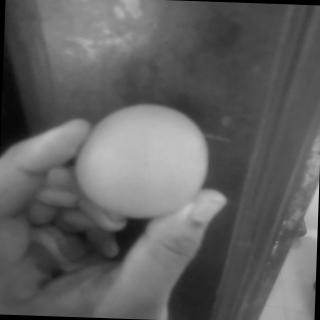Telur: (71, 98, 217, 222)
